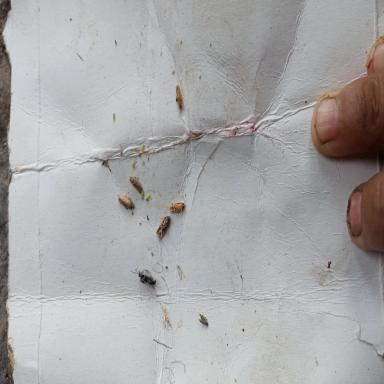pbw: (166, 194, 185, 216), (156, 215, 171, 240), (118, 192, 134, 209), (129, 175, 143, 194), (198, 310, 208, 330), (176, 81, 182, 109)
